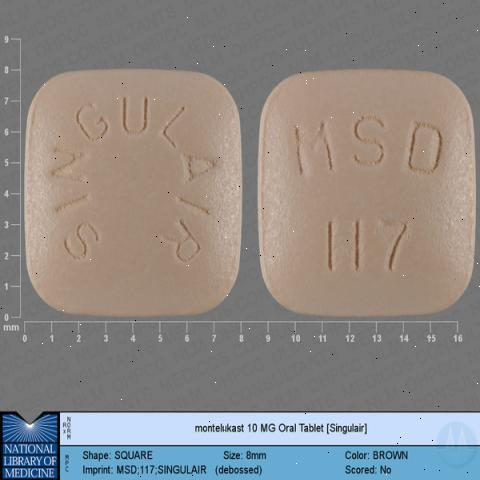Pill: (16, 47, 251, 338), (252, 42, 480, 326)
